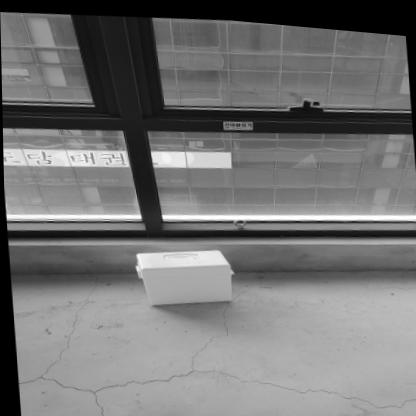DDL: (130, 237, 235, 310)
